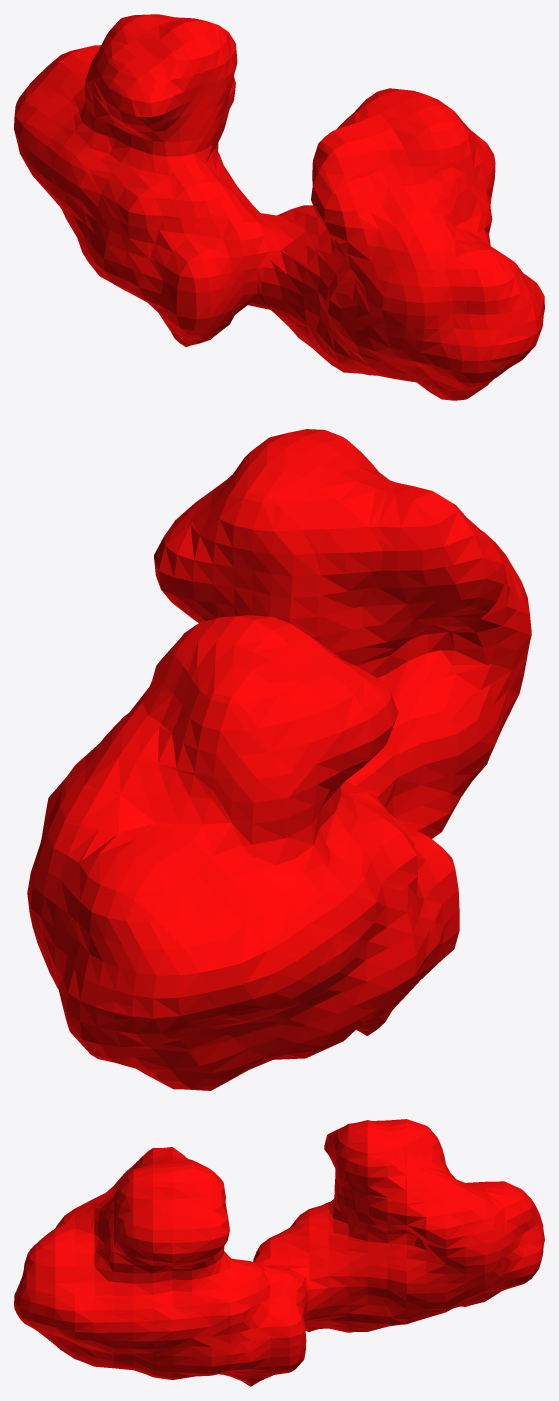
Rendered from ytfE_coarse.dae.
3 views of the same model, one above another, from view 1: azimuth 30°, elevation 25°; view 2: azimuth 150°, elevation 25°; view 3: azimuth 270°, elevation 25° (orthographic). The views are drawn at different scales.
Parts seen in each view (by area): view 1: ytfE; view 2: ytfE; view 3: ytfE.
Part boxes in pixels (bbox=[...]): ytfE: bbox=[14, 14, 544, 400]; ytfE: bbox=[27, 429, 531, 1090]; ytfE: bbox=[14, 1119, 544, 1386].
Bounding box in the file's own units: 51.23 × 54.53 × 112.
